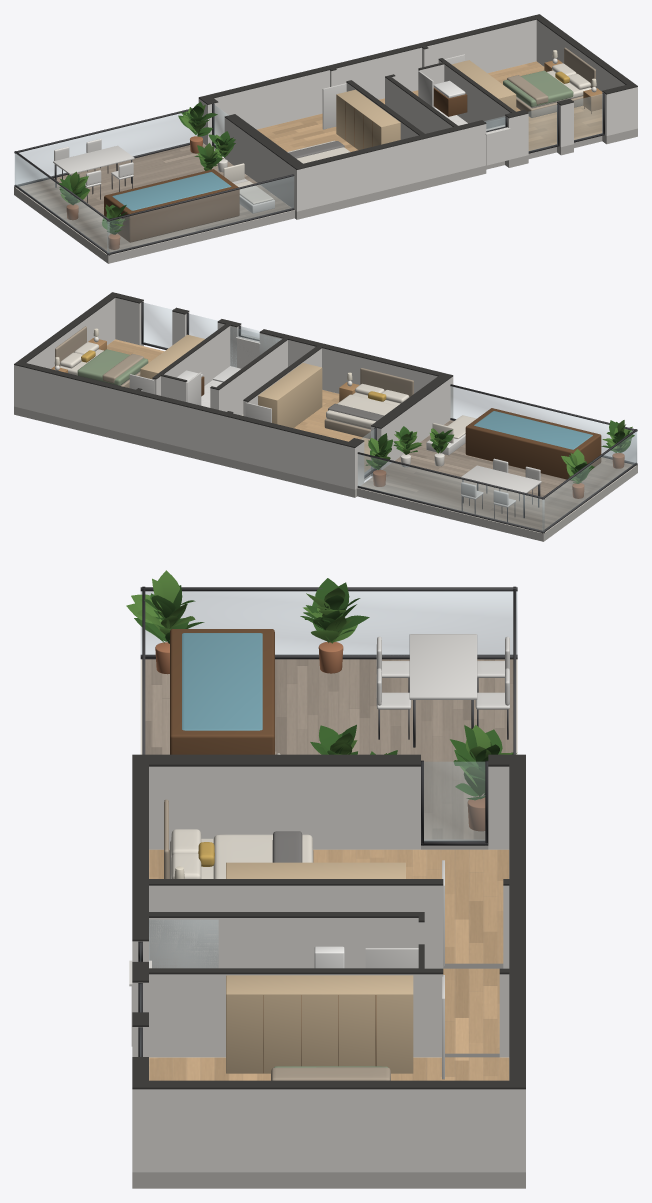
3 views of the same model, one above another, from view 1: azimuth 30°, elevation 25°; view 2: azimuth 150°, elevation 25°; view 3: azimuth 270°, elevation 25° (orthographic). The views are drawn at different scales.
Visible parts, largest first — view 1: walls, floor, caps, Cube.025, Cube.072, Cube.022, Cube.019, Cube.037, Cube.073, Cube.063, Cube.051, Cube.008 (+17 smaller); view 2: walls, floor, caps, Cube.022, Cube.072, Cube.019, Cube.037, Cube.025, Cube.073, Cube.051, Cube.012, Cube.063 (+16 smaller); view 3: walls, floor, caps, Cube.058, Cube.019, Cube.073, Cube.072, Cube, Cube.063, Cube.046, Cube.037, Cube.031 (+5 smaller).
Part boxes in pixels (bbox=[...]): walls: bbox=[198, 19, 637, 211]; floor: bbox=[14, 61, 637, 263]; caps: bbox=[198, 14, 637, 169]; Cube.025: bbox=[107, 176, 293, 252]; Cube.072: bbox=[104, 169, 239, 242]; Cube.022: bbox=[15, 113, 197, 185]; Cube.019: bbox=[15, 154, 109, 253]; Cube.037: bbox=[336, 89, 400, 150]; Cube.073: bbox=[112, 172, 231, 210]; Cube.063: bbox=[53, 145, 134, 174]; Cube.051: bbox=[503, 70, 573, 106]; Cube.008: bbox=[528, 105, 557, 151]; walls: bbox=[14, 297, 453, 489]; floor: bbox=[14, 339, 637, 541]; caps: bbox=[14, 292, 453, 447]; Cube.022: bbox=[358, 454, 544, 530]; Cube.072: bbox=[465, 408, 601, 480]; Cube.019: bbox=[542, 432, 636, 531]; Cube.037: bbox=[258, 363, 322, 428]; Cube.025: bbox=[451, 386, 636, 463]; Cube.073: bbox=[474, 411, 592, 449]; Cube.051: bbox=[77, 349, 148, 385]; Cube.012: bbox=[143, 303, 172, 348]; Cube.063: bbox=[461, 465, 541, 492]; walls: bbox=[132, 766, 525, 1172]; floor: bbox=[132, 659, 525, 1188]; caps: bbox=[132, 754, 525, 1089]; Cube.058: bbox=[226, 975, 413, 1073]; Cube.019: bbox=[141, 591, 517, 655]; Cube.073: bbox=[182, 633, 262, 730]; Cube.072: bbox=[170, 629, 274, 754]; Cube: bbox=[424, 762, 484, 841]; Cube.063: bbox=[409, 634, 477, 699]; Cube.046: bbox=[149, 920, 218, 967]; Cube.037: bbox=[226, 862, 405, 878]; Cube.031: bbox=[213, 834, 312, 878].
Size of the model in its own units: 16.35 by 1.7 by 5.33.
27 materials, 1 textured.
